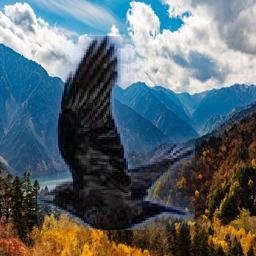Crow: (37, 36, 195, 230)
